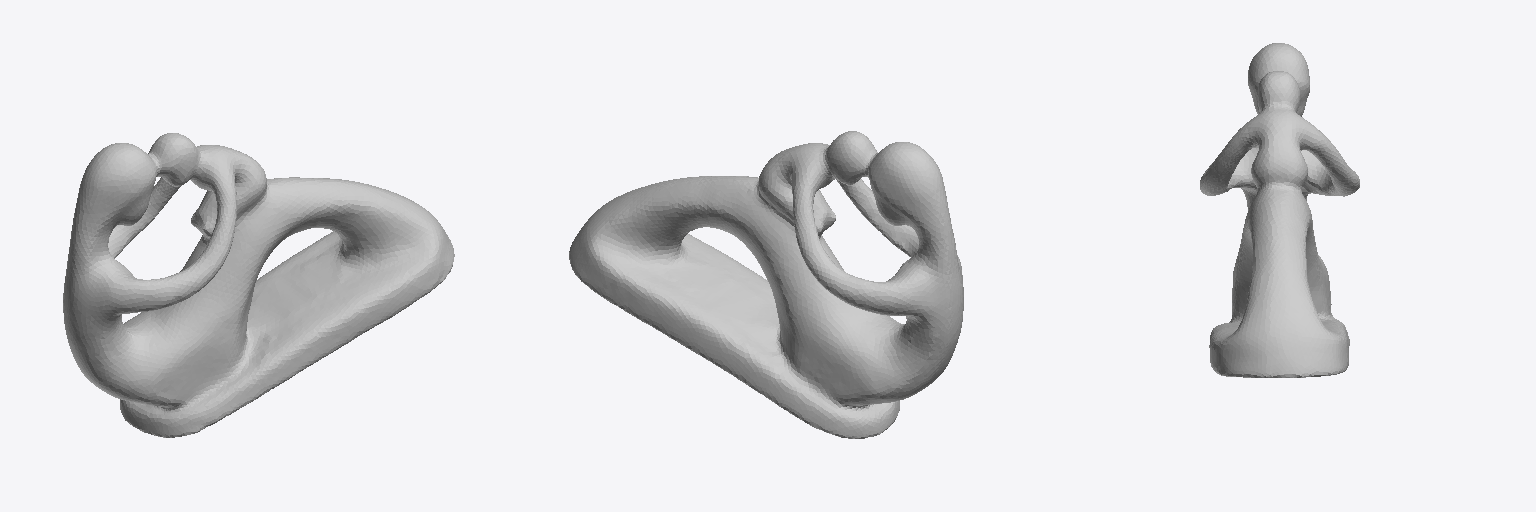
File: fertility.obj
3 views of the same model, side by side, from view 1: azimuth 30°, elevation 25°; view 2: azimuth 150°, elevation 25°; view 3: azimuth 270°, elevation 25° (orthographic).
Bounding box in the file's own units: 199 × 144 × 73.25.